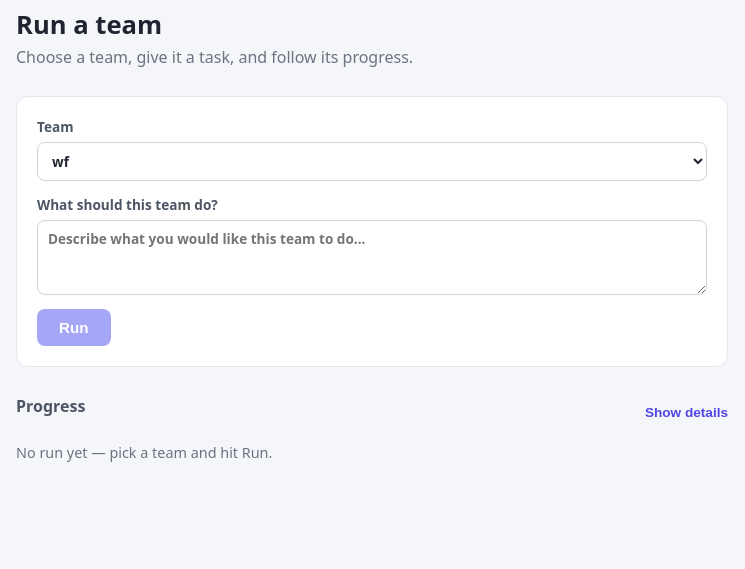
it: MonitorPage run waiting UX › does not show Stop until the new run id exists (avoids a stale-target race)
Type "do the thing" into the text box labelled "What should this team do?" at (372,258), box [37, 220, 707, 295]
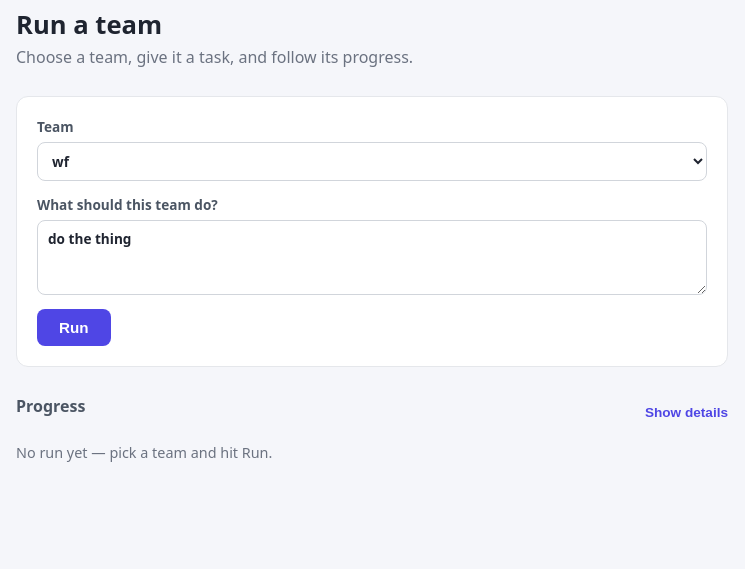
Click the button "Run" at (74,328), box [37, 309, 110, 346]
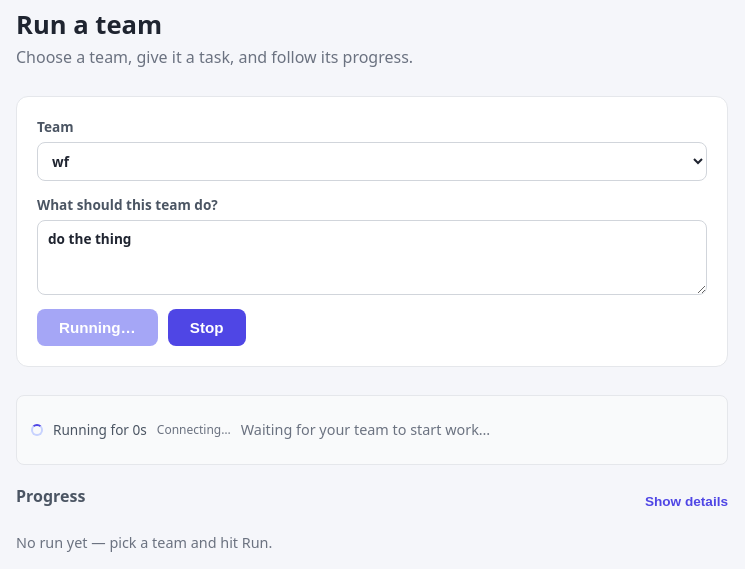
Now the button "Running…" is shown, box [37, 309, 158, 346]
Now the button "Stop" is shown, box [168, 309, 246, 346]
